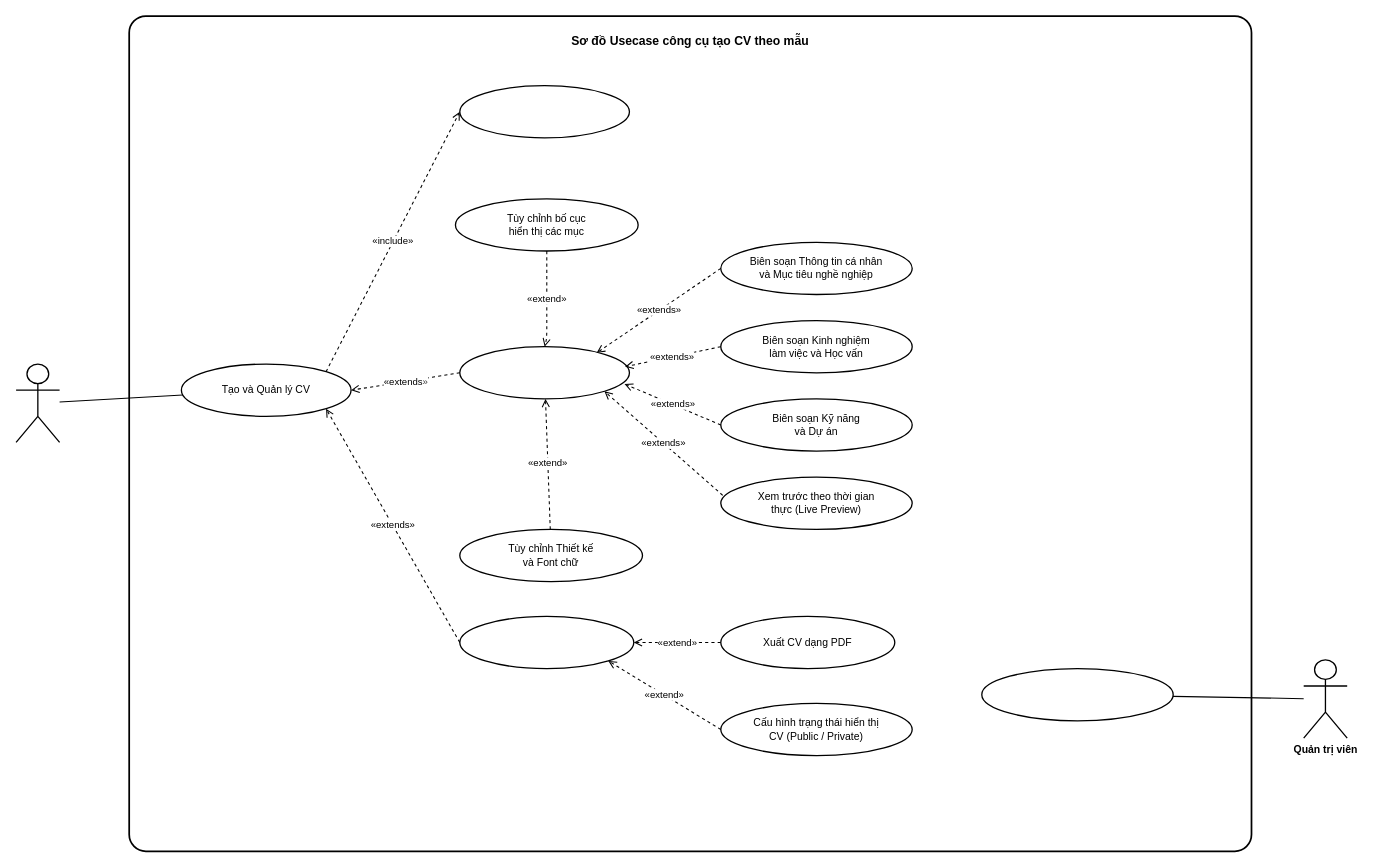
The diagram is 1373 pixels wide and 867 high, and some of its shapes have lost their labels. Here are the shapes that lost their labels. From the top down, the centre of each, then its label:
point (544, 111): Chọn Template CV
point (544, 372): Biên soạn nội dung CV
point (37, 403): Ứng viên
point (546, 642): Lưu và Quản lý danh sách CV
point (1077, 694): Quản lý CV Templates (Bật/Tắt, Tải lên mẫu mới)
